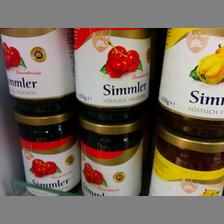Marmelade: (72, 28, 152, 124), (156, 28, 224, 140), (0, 29, 74, 116), (13, 106, 79, 194), (143, 127, 223, 195), (79, 119, 145, 195)
